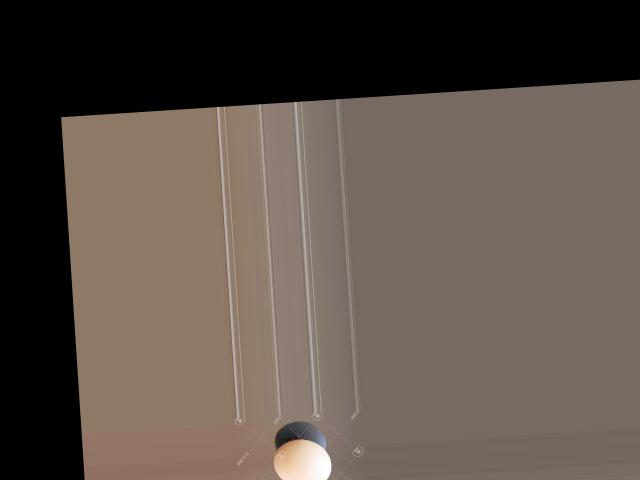egg: (272, 436, 332, 480)
